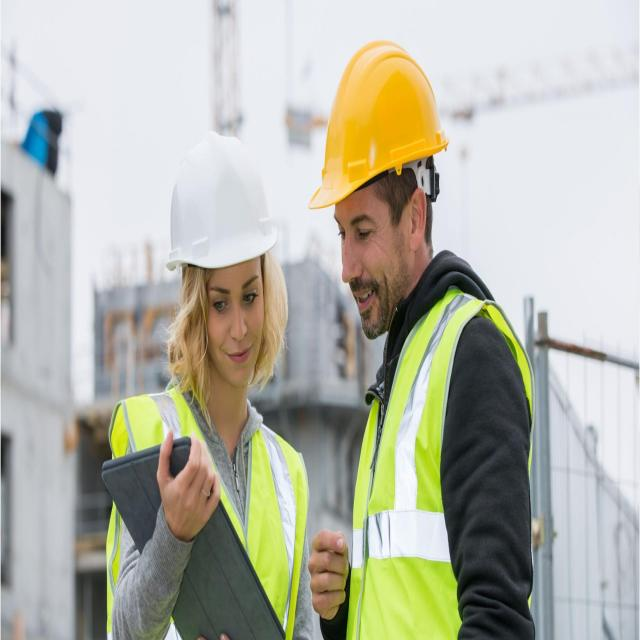Reflective-Jacket: (344, 284, 540, 640), (103, 380, 311, 640)
Safety-Helmet: (307, 34, 450, 218), (162, 124, 278, 281)
